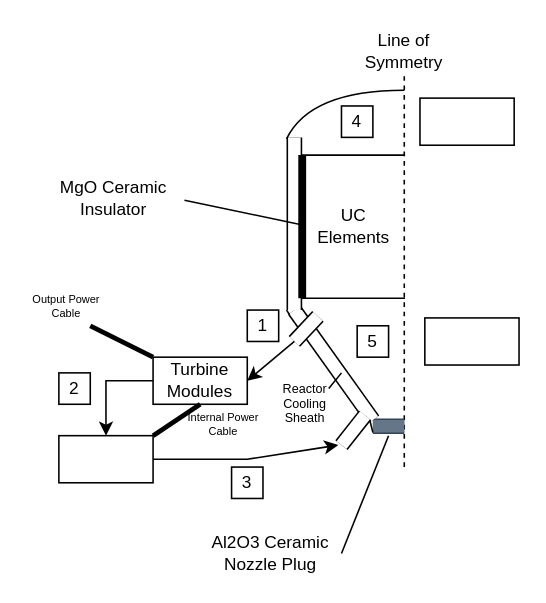
This 546x603 diagram has some shape labels left out. Here are the shapes that lost their labels. From the top down, the centre of each, then its label:
point (466, 121): Reactor Plenum
point (471, 340): Chamber
point (105, 458): Pump Modules
